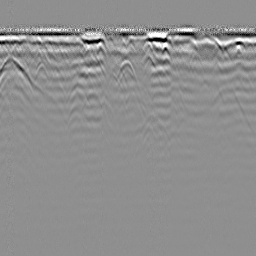cavity: (116, 56, 137, 82)
